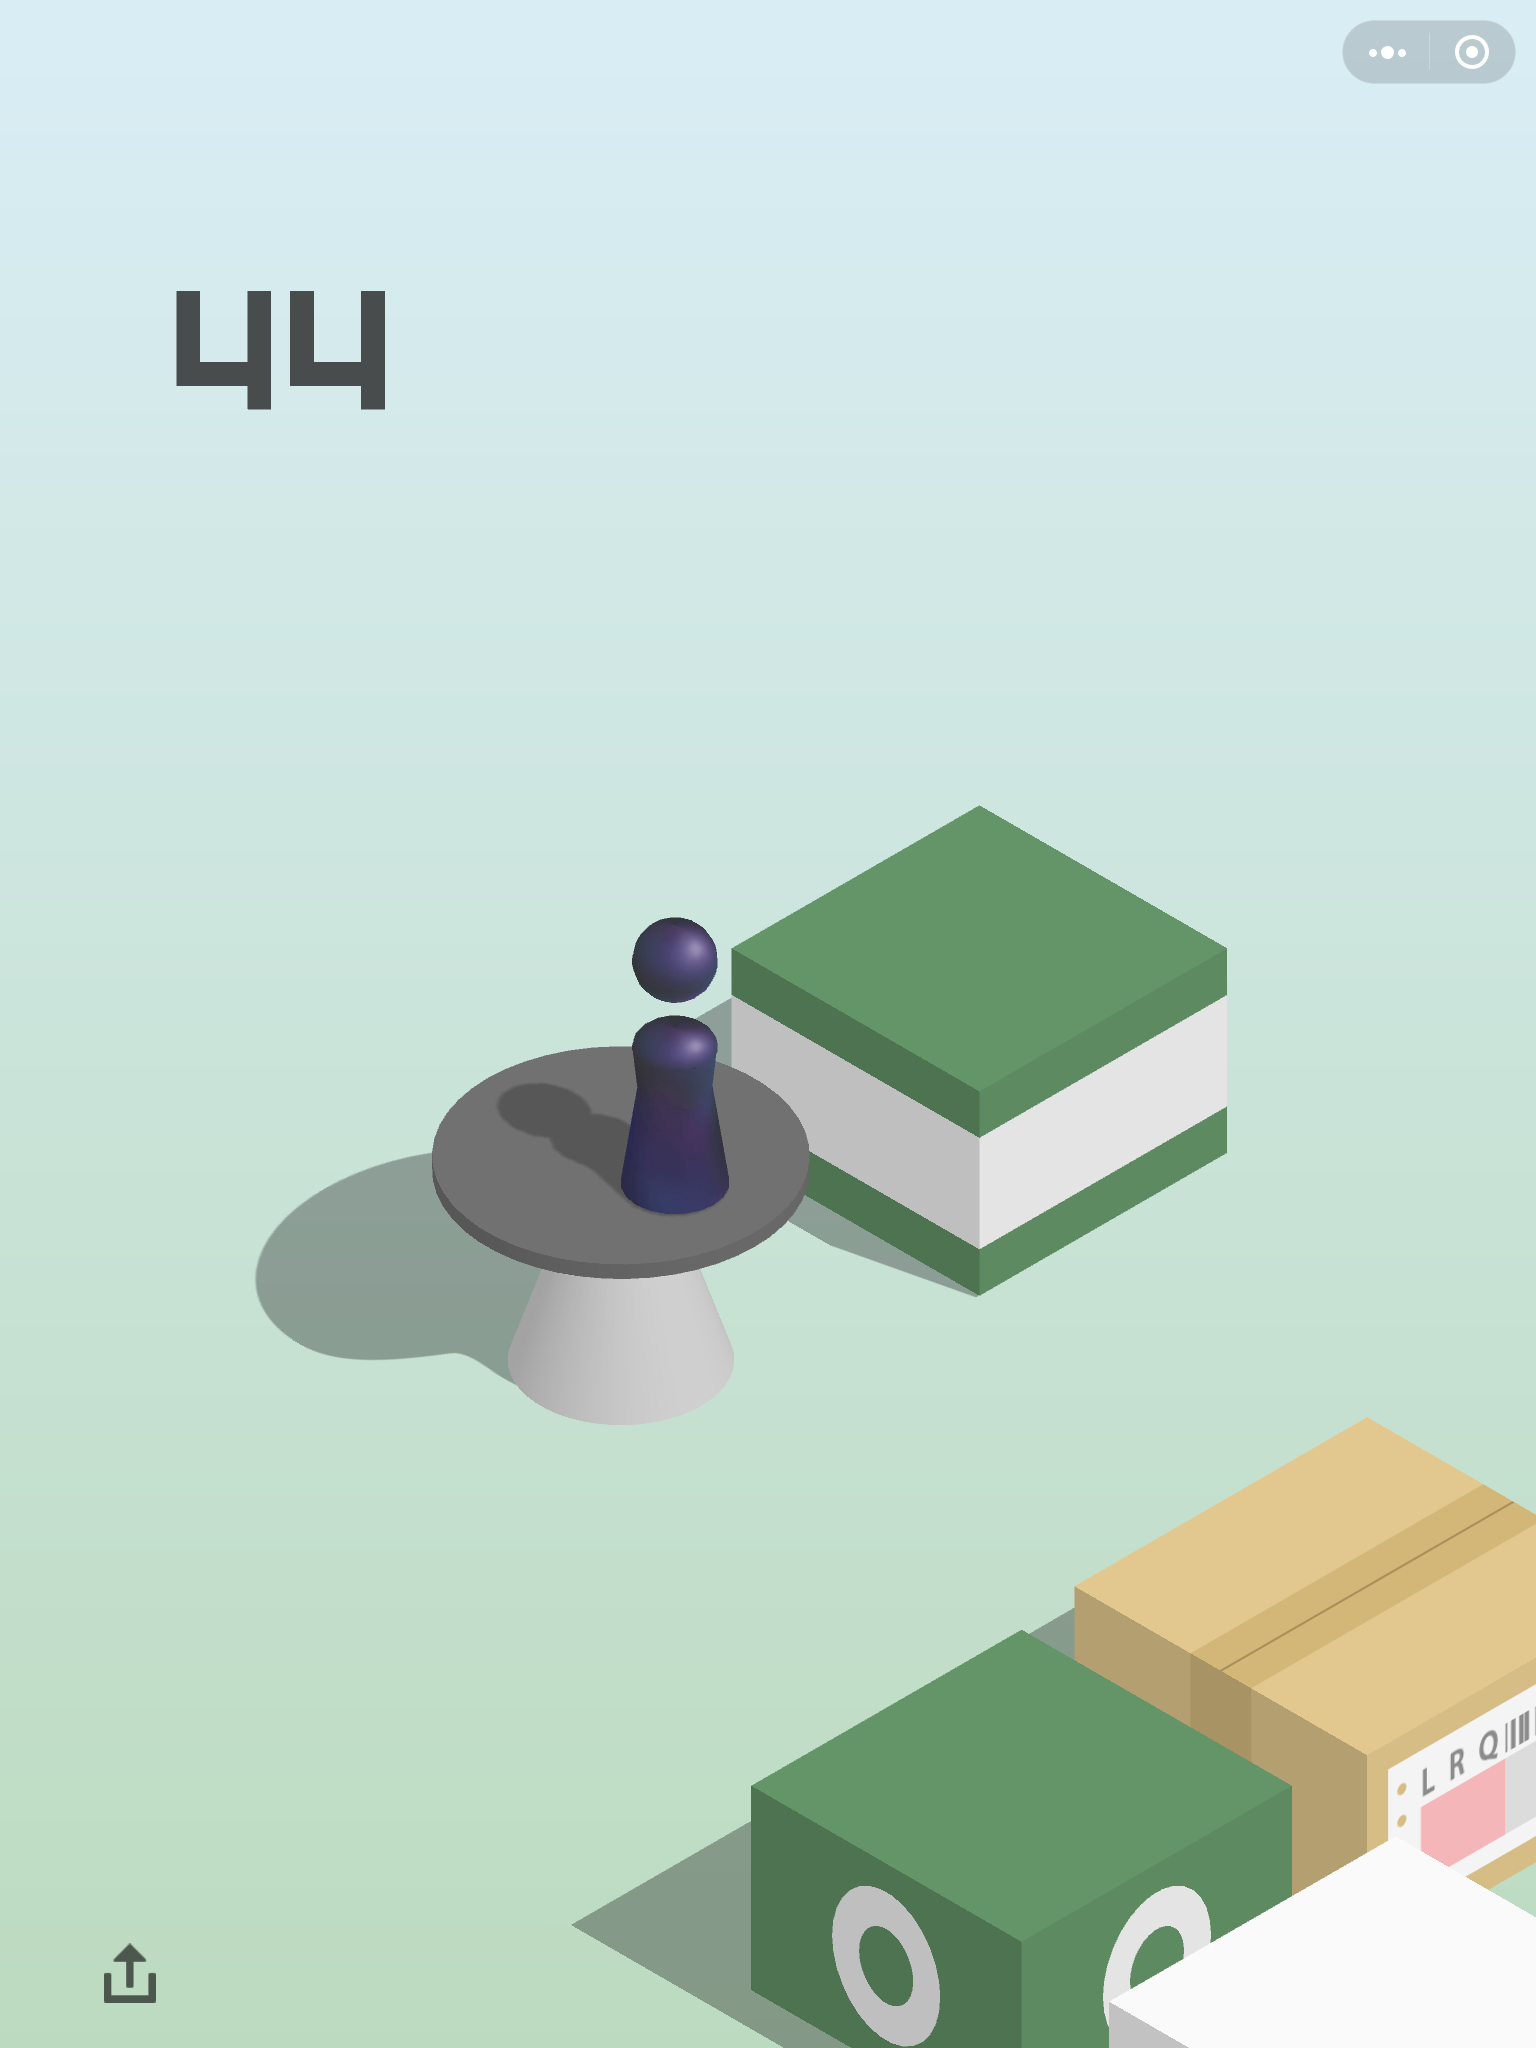c: (419, 1035, 816, 1435)
f: (724, 798, 1236, 1301), (747, 1625, 1302, 2048), (1070, 1411, 1536, 1908), (1108, 1834, 1534, 2048)
r: (615, 901, 737, 1222)
